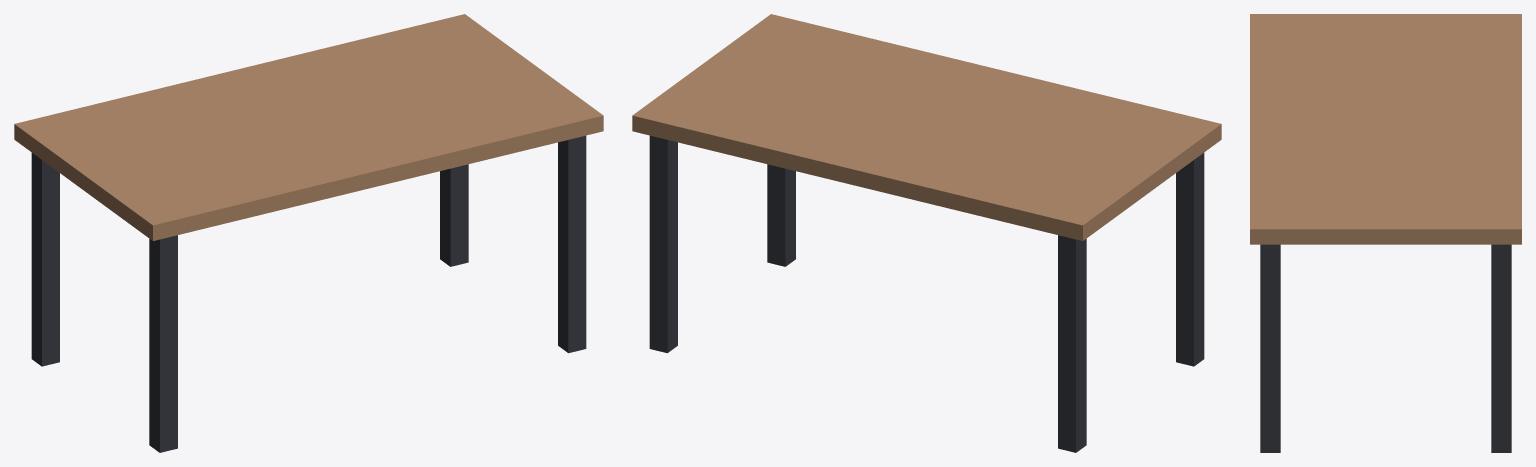
File: table.glb
3 views of the same model, side by side, from view 1: azimuth 30°, elevation 25°; view 2: azimuth 150°, elevation 25°; view 3: azimuth 270°, elevation 25° (orthographic). The views are drawn at different scales.
Parts seen in each view (by area): view 1: box (×5); view 2: box (×5); view 3: box (×3).
Boxes of the visible parts, bbox=[...] form: box (×5): bbox=[14, 14, 603, 452]; box (×5): bbox=[632, 14, 1221, 452]; box (×3): bbox=[1250, 14, 1521, 452].
Bounding box in the file's own units: 1.5 × 0.745 × 0.8.
